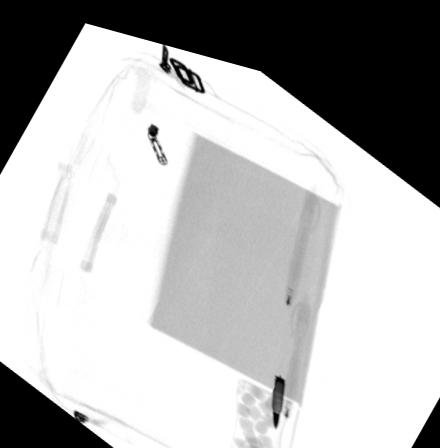Bullet: (272, 357, 286, 415)
